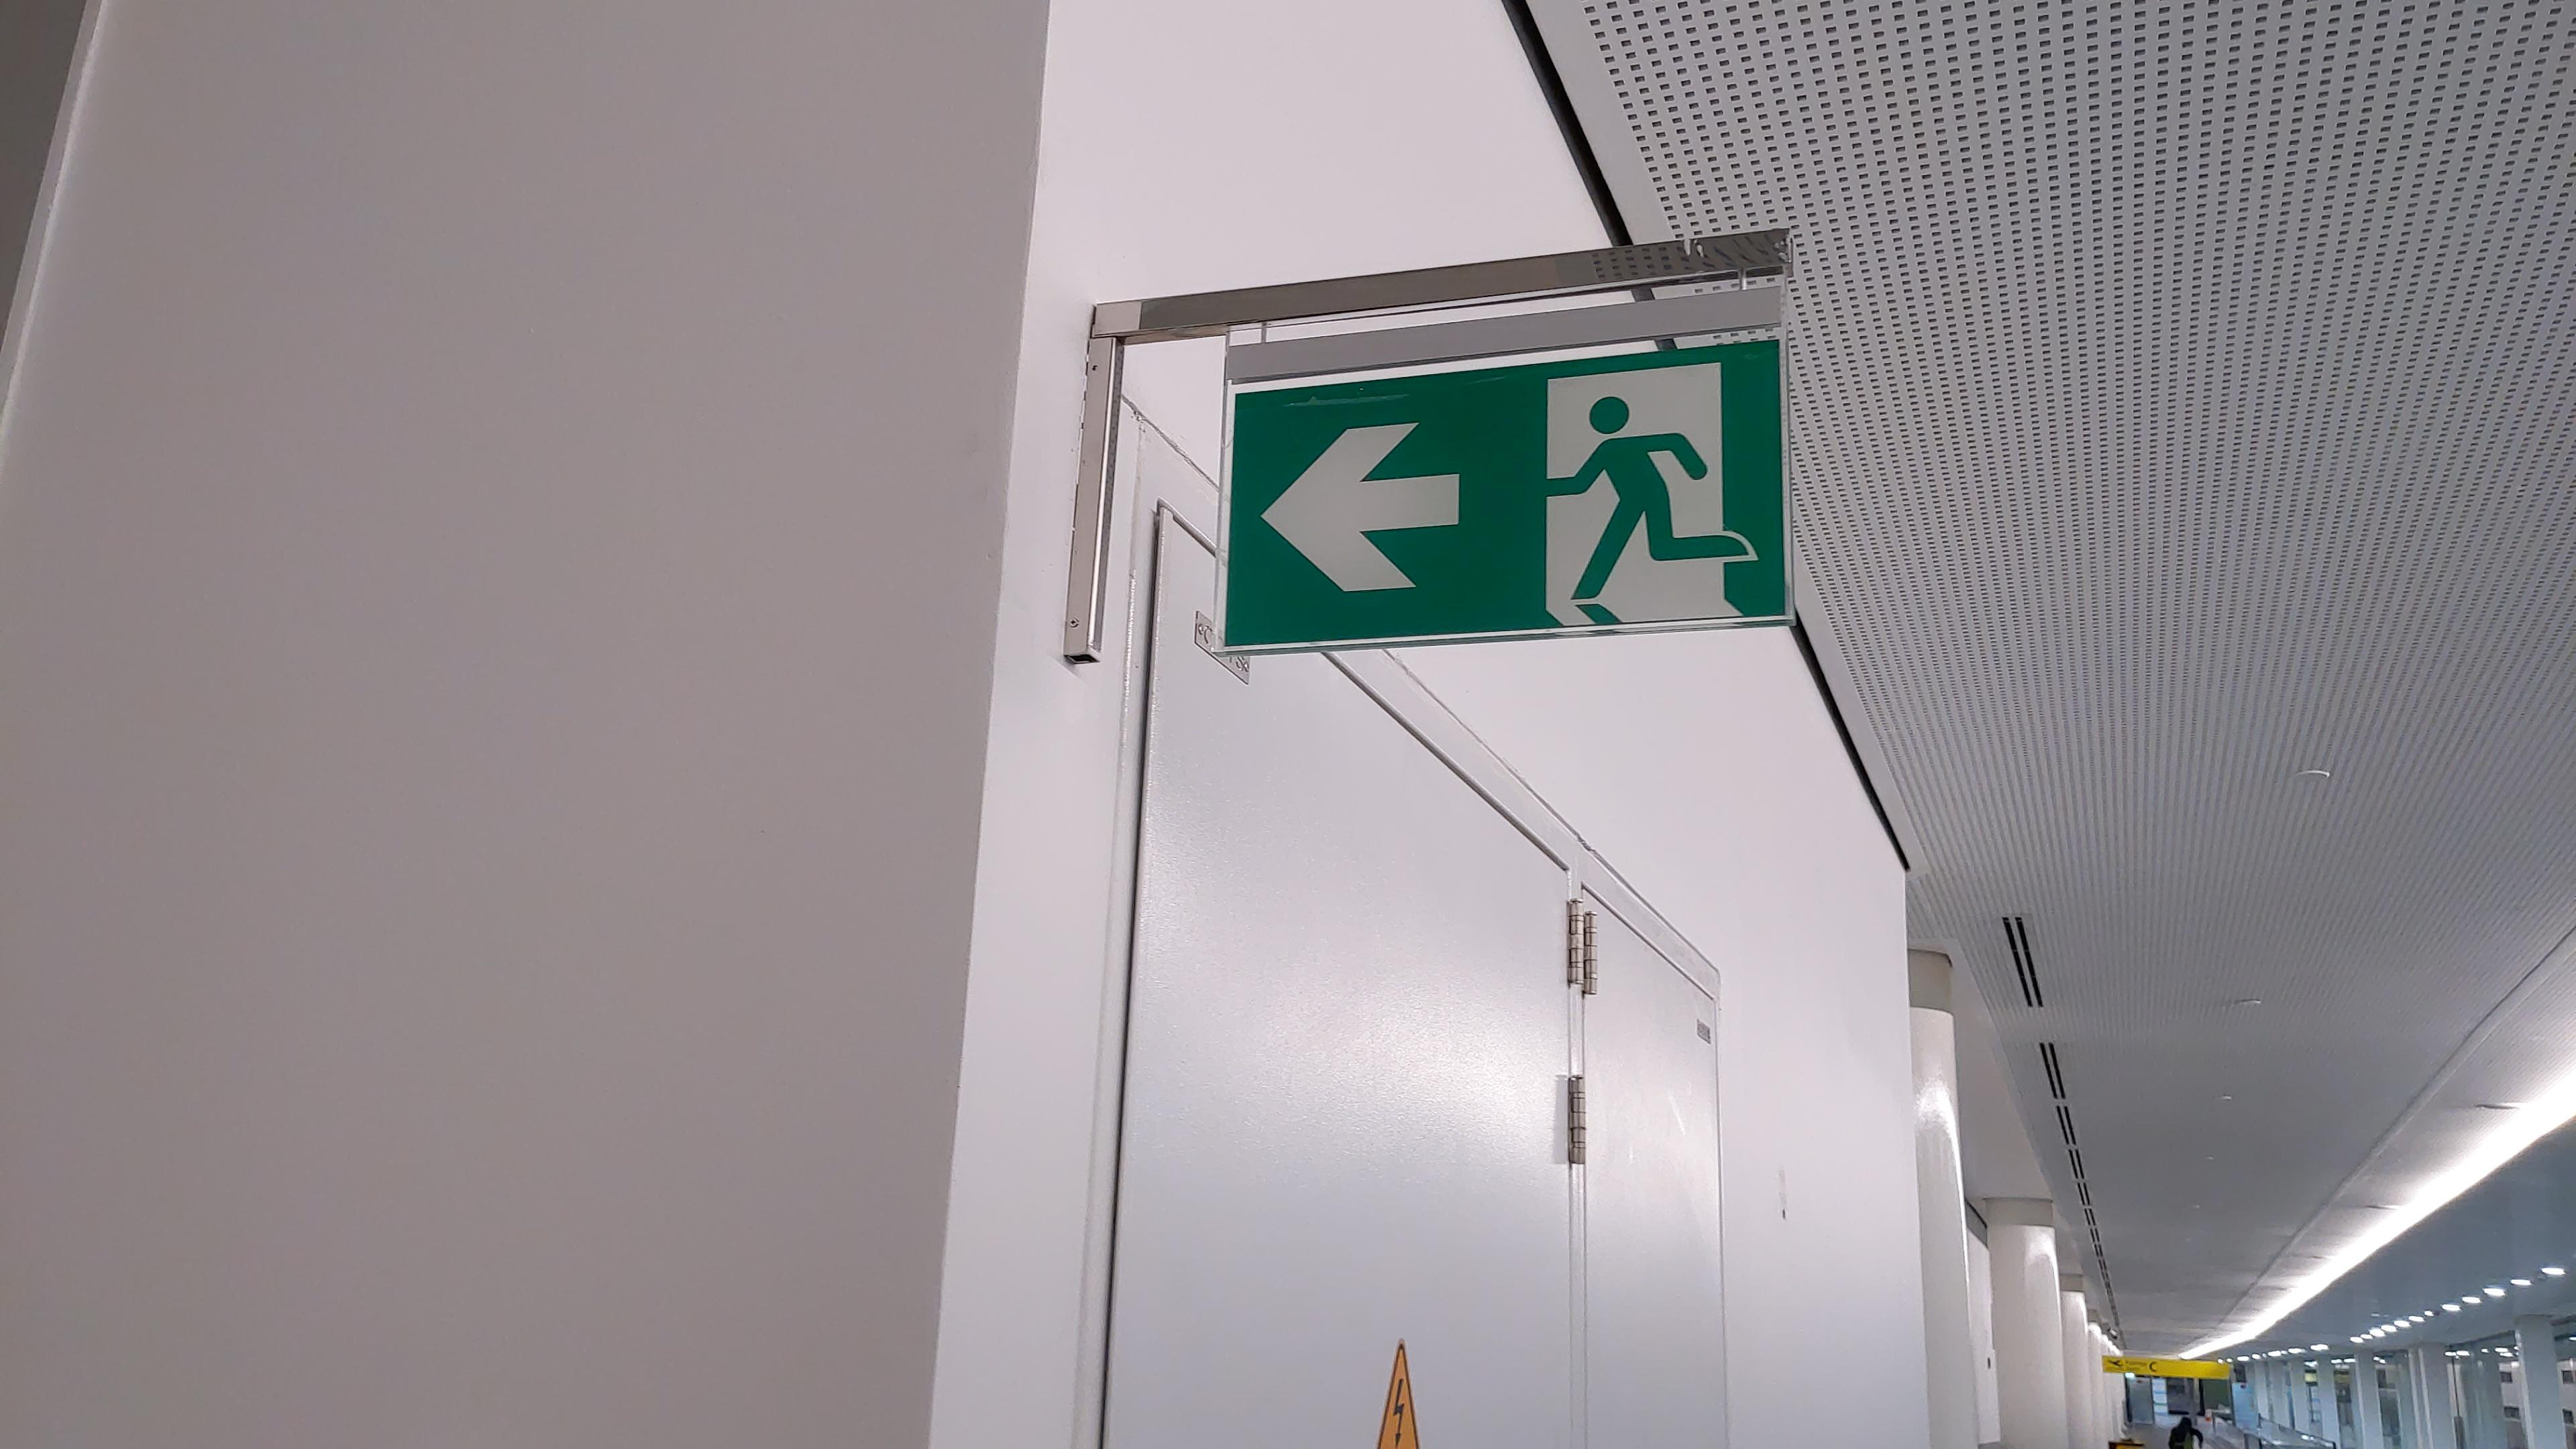airplane symbol: (2106, 1358, 2125, 1368)
danger-electricity: (1367, 1336, 1429, 1449)
emergency exit: (1525, 365, 1756, 637)
emergency right arrow: (1246, 411, 1477, 605)
